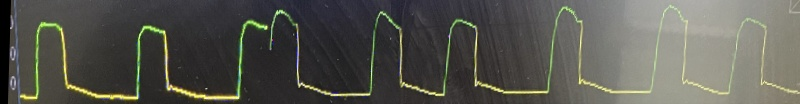normal_pressure: (21, 1, 743, 104)
